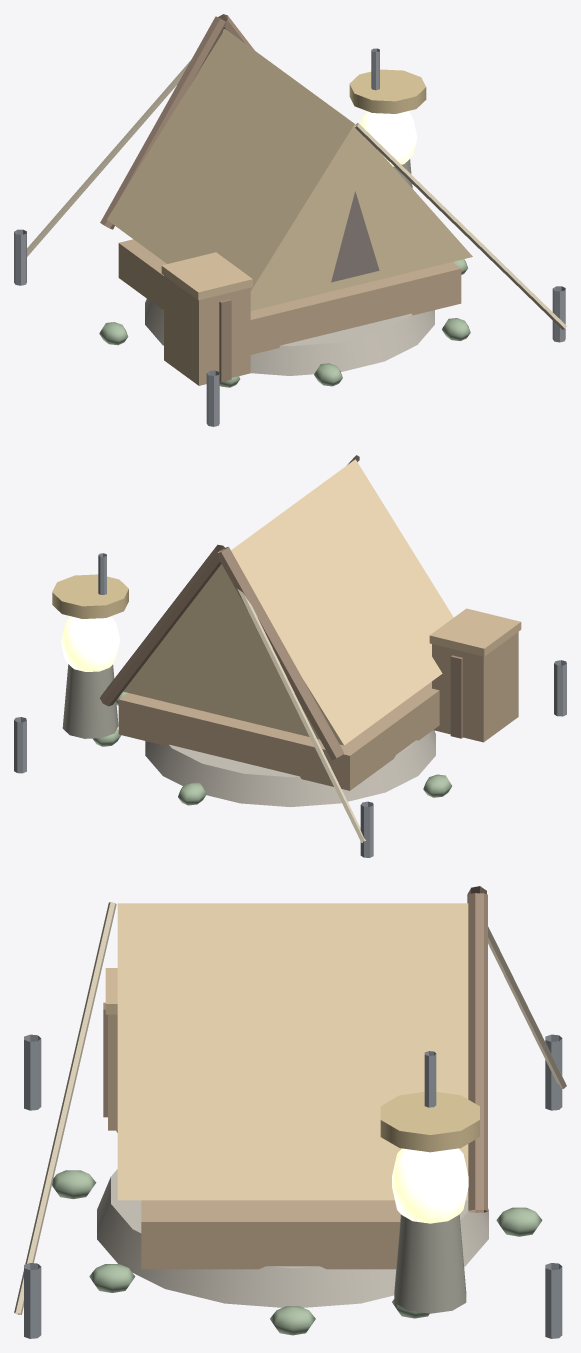
The model's file is camp.glb.
The picture shows the model from 3 angles, top to bottom: view 1: azimuth 30°, elevation 25°; view 2: azimuth 150°, elevation 25°; view 3: azimuth 270°, elevation 25°; orthographic projection. The views are drawn at different scales.
Visible parts, largest first — view 1: ExpeditionCamp-canvas, ExpeditionCamp-wood, ExpeditionCamp-stone, ExpeditionCamp-darkWood, ExpeditionCamp-rope, ExpeditionCamp-lightWood, ExpeditionCamp-gold, ExpeditionCamp-steel, ExpeditionCamp-dark, ExpeditionCamp-lantern, ExpeditionCamp-moss; view 2: ExpeditionCamp-canvas, ExpeditionCamp-wood, ExpeditionCamp-stone, ExpeditionCamp-darkWood, ExpeditionCamp-stoneDark, ExpeditionCamp-lantern, ExpeditionCamp-lightWood, ExpeditionCamp-gold, ExpeditionCamp-steel, ExpeditionCamp-rope, ExpeditionCamp-moss; view 3: ExpeditionCamp-canvas, ExpeditionCamp-wood, ExpeditionCamp-stone, ExpeditionCamp-darkWood, ExpeditionCamp-stoneDark, ExpeditionCamp-steel, ExpeditionCamp-lantern, ExpeditionCamp-gold, ExpeditionCamp-rope, ExpeditionCamp-moss, ExpeditionCamp-lightWood.
Boxes of the visible parts, <box> form: ExpeditionCamp-canvas: <box>107,29,472,310</box>; ExpeditionCamp-wood: <box>118,239,461,385</box>; ExpeditionCamp-stone: <box>145,299,434,375</box>; ExpeditionCamp-darkWood: <box>100,14,254,382</box>; ExpeditionCamp-rope: <box>27,29,566,329</box>; ExpeditionCamp-lightWood: <box>161,252,252,300</box>; ExpeditionCamp-gold: <box>349,69,426,113</box>; ExpeditionCamp-steel: <box>14,48,565,426</box>; ExpeditionCamp-dark: <box>331,191,379,282</box>; ExpeditionCamp-lantern: <box>360,111,417,166</box>; ExpeditionCamp-moss: <box>99,259,470,387</box>; ExpeditionCamp-canvas: <box>107,459,453,745</box>; ExpeditionCamp-wood: <box>118,632,518,790</box>; ExpeditionCamp-stone: <box>145,730,435,807</box>; ExpeditionCamp-darkWood: <box>100,544,462,760</box>; ExpeditionCamp-stoneDark: <box>62,664,118,738</box>; ExpeditionCamp-lantern: <box>61,616,120,671</box>; ExpeditionCamp-lightWood: <box>429,608,521,656</box>; ExpeditionCamp-gold: <box>52,574,128,618</box>; ExpeditionCamp-steel: <box>14,553,566,857</box>; ExpeditionCamp-rope: <box>237,455,365,842</box>; ExpeditionCamp-moss: <box>93,691,451,805</box>; ExpeditionCamp-canvas: <box>117,903,468,1200</box>; ExpeditionCamp-wood: <box>108,1014,400,1269</box>; ExpeditionCamp-stone: <box>97,1169,488,1307</box>; ExpeditionCamp-darkWood: <box>103,886,487,1212</box>; ExpeditionCamp-stoneDark: <box>394,1214,466,1313</box>; ExpeditionCamp-steel: <box>24,1034,562,1338</box>; ExpeditionCamp-lantern: <box>392,1148,468,1223</box>; ExpeditionCamp-gold: <box>380,1092,479,1152</box>; ExpeditionCamp-rope: <box>14,902,566,1314</box>; ExpeditionCamp-moss: <box>52,1130,542,1335</box>; ExpeditionCamp-lightWood: <box>105,968,117,1014</box>.
Size of the model in its own units: 1.19 by 0.782 by 1.17.
